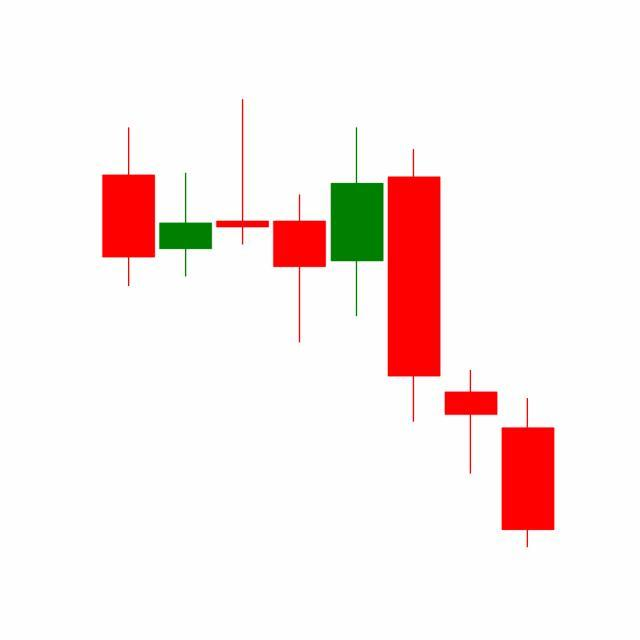Three Outside Up-Down: (328, 124, 500, 478)
